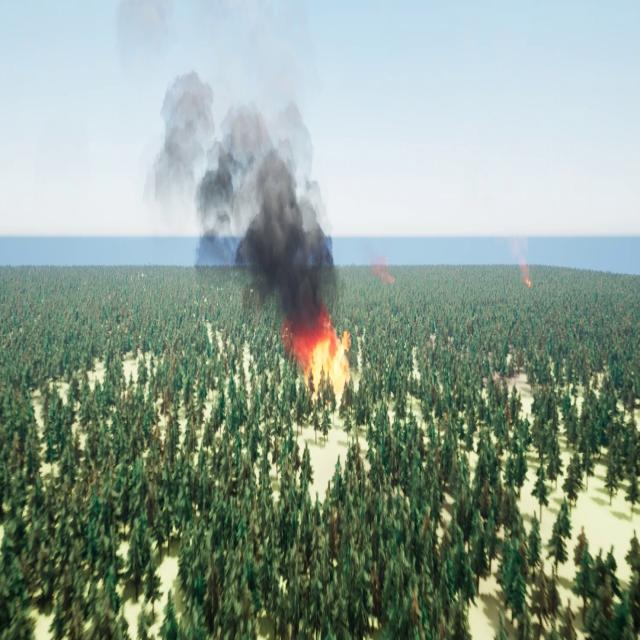fire: (288, 327, 359, 394)
smoke: (142, 67, 356, 326), (510, 234, 532, 287), (368, 250, 394, 281)
